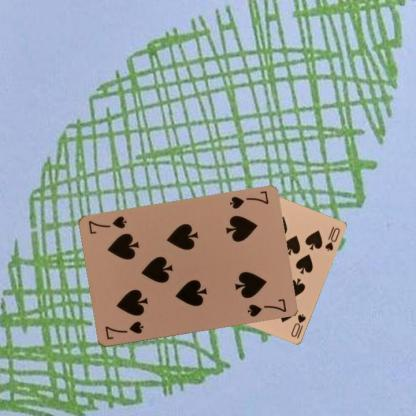10s: (288, 311, 308, 340)
7s: (226, 188, 270, 210), (102, 319, 145, 341)
